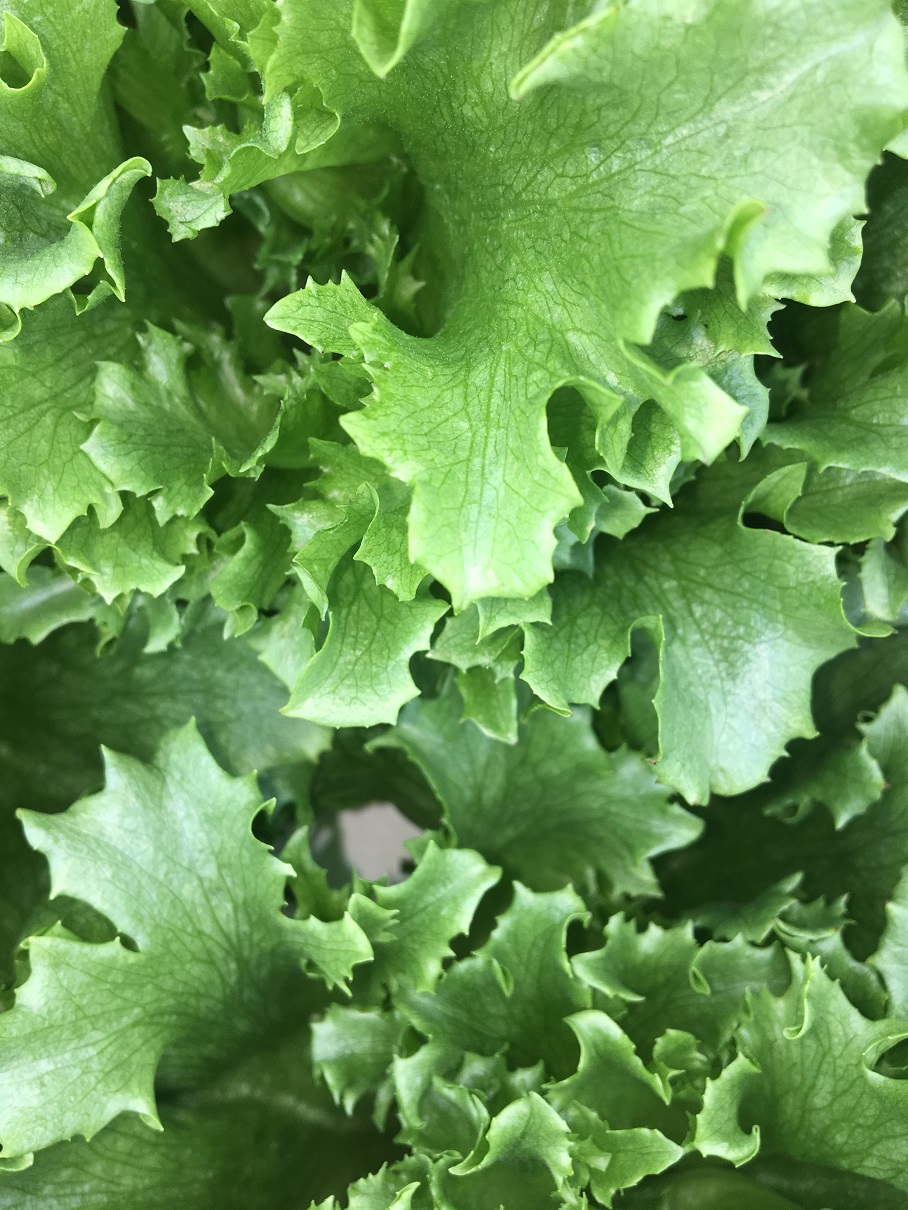tipburn: (634, 734, 680, 777)
